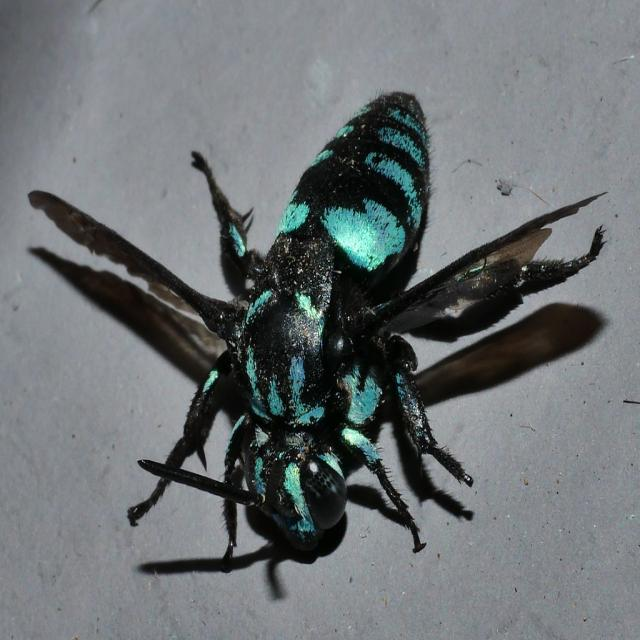Thyreus: (29, 84, 615, 581)
